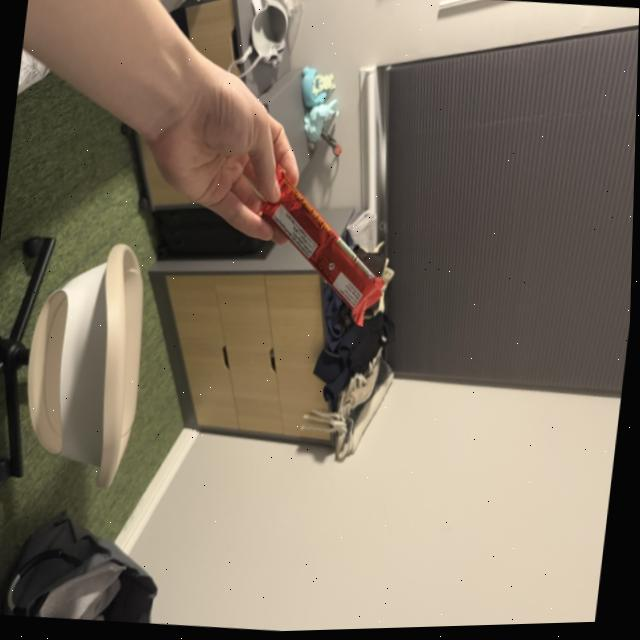chocolate: (246, 160, 403, 336)
